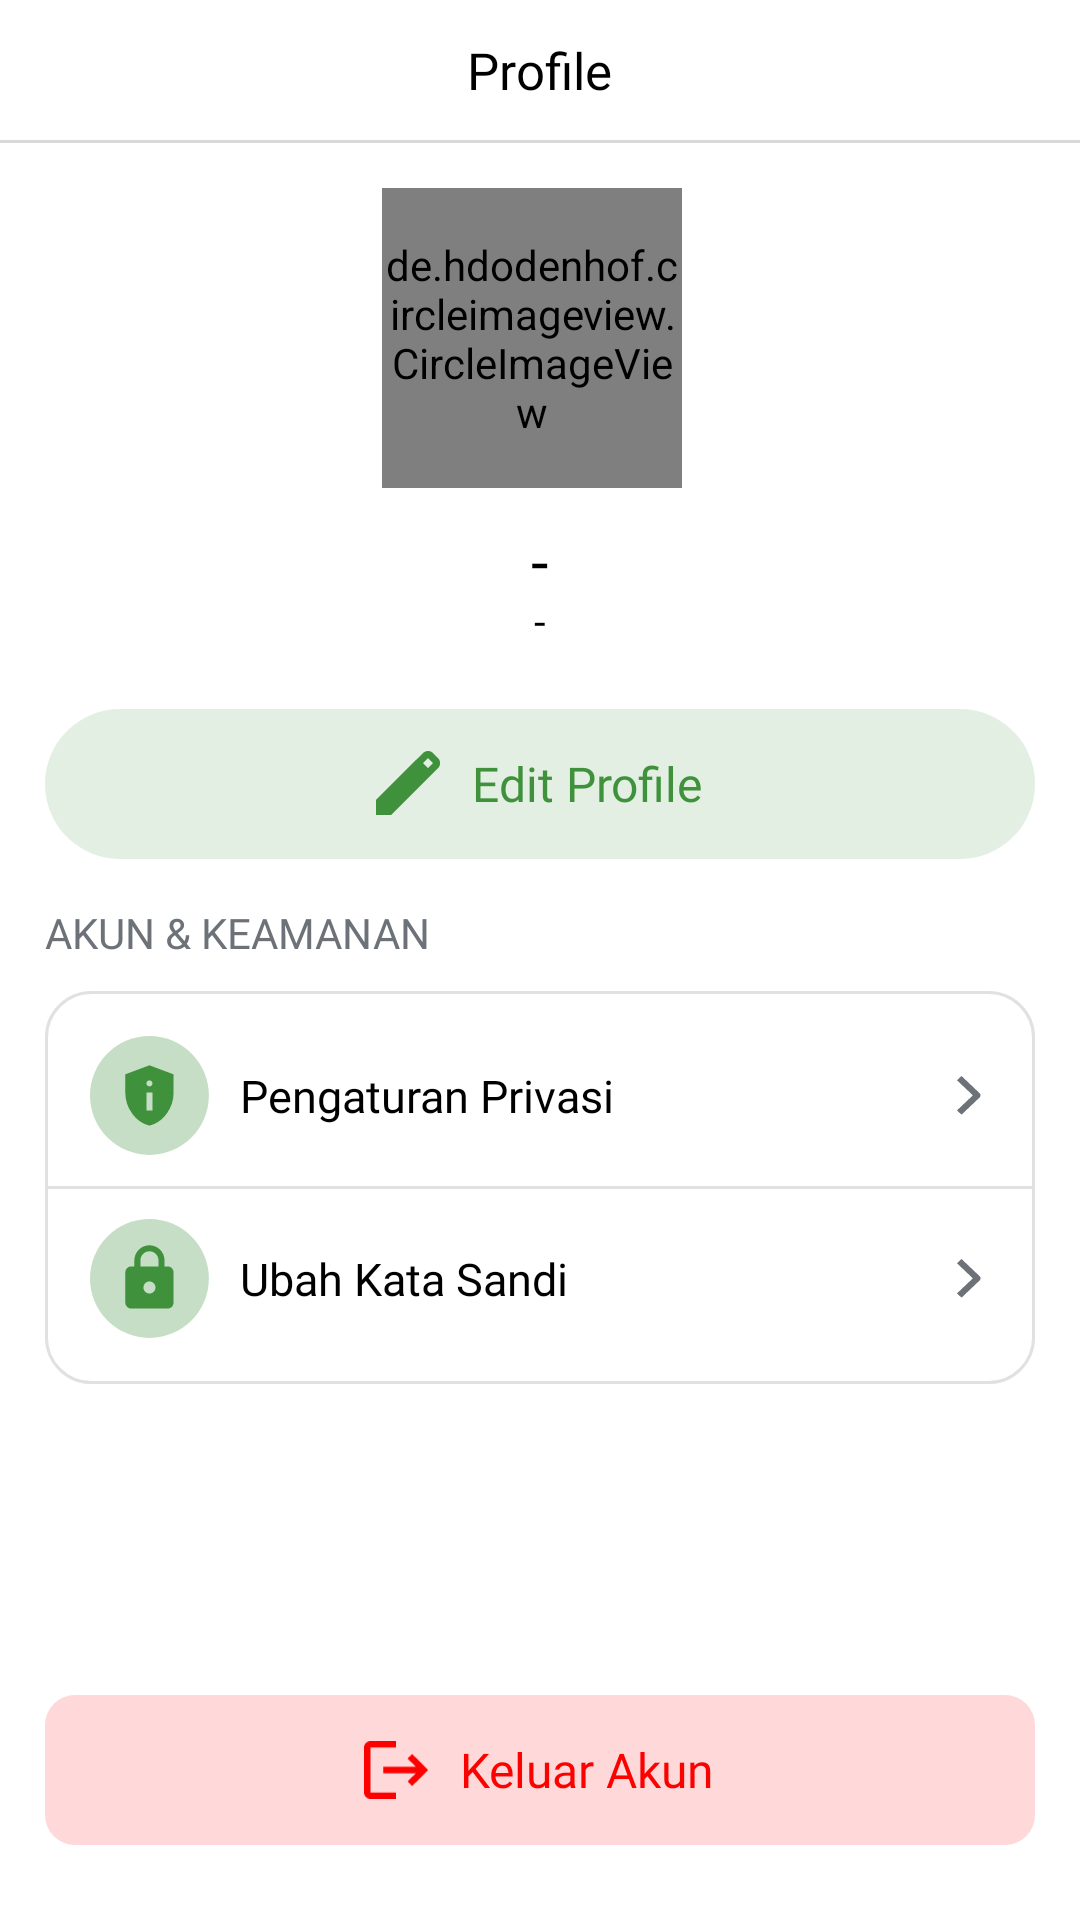

Icon bounding boxes for this 1080 × 1920 phone screenshot, format (x1, y1, x2, y2):
arror right: (957, 1076, 981, 1115), (957, 1259, 981, 1298)
kunci: (90, 1219, 209, 1338)
pencil: (376, 751, 440, 815)
